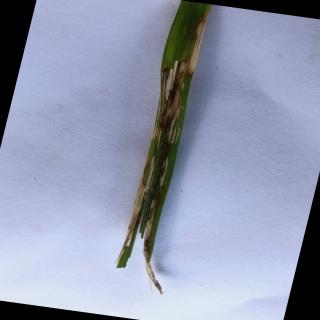Hawar-Daun: (121, 156, 159, 247), (160, 60, 184, 142), (186, 9, 212, 78), (142, 247, 162, 293), (157, 156, 171, 186)
